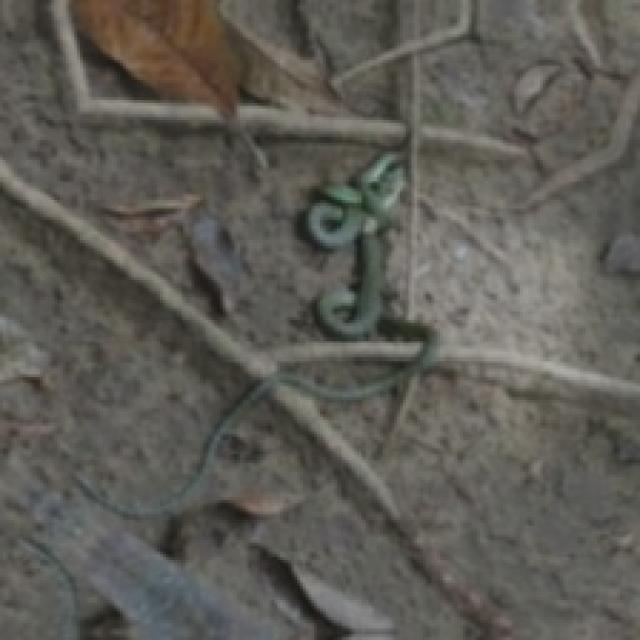paradise tree snake: (271, 383, 520, 637), (0, 157, 271, 377), (23, 477, 271, 637)
